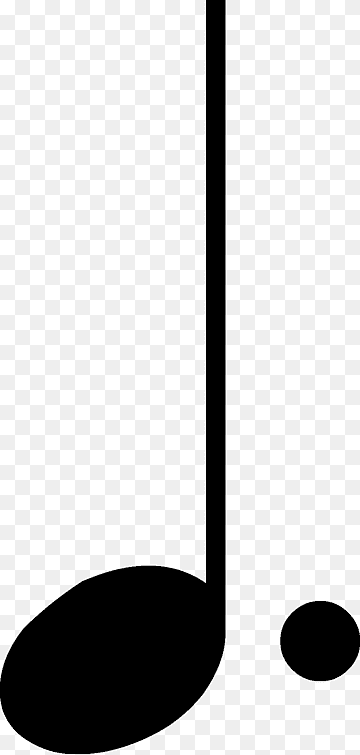four_score_2: (1, 1, 360, 755)
